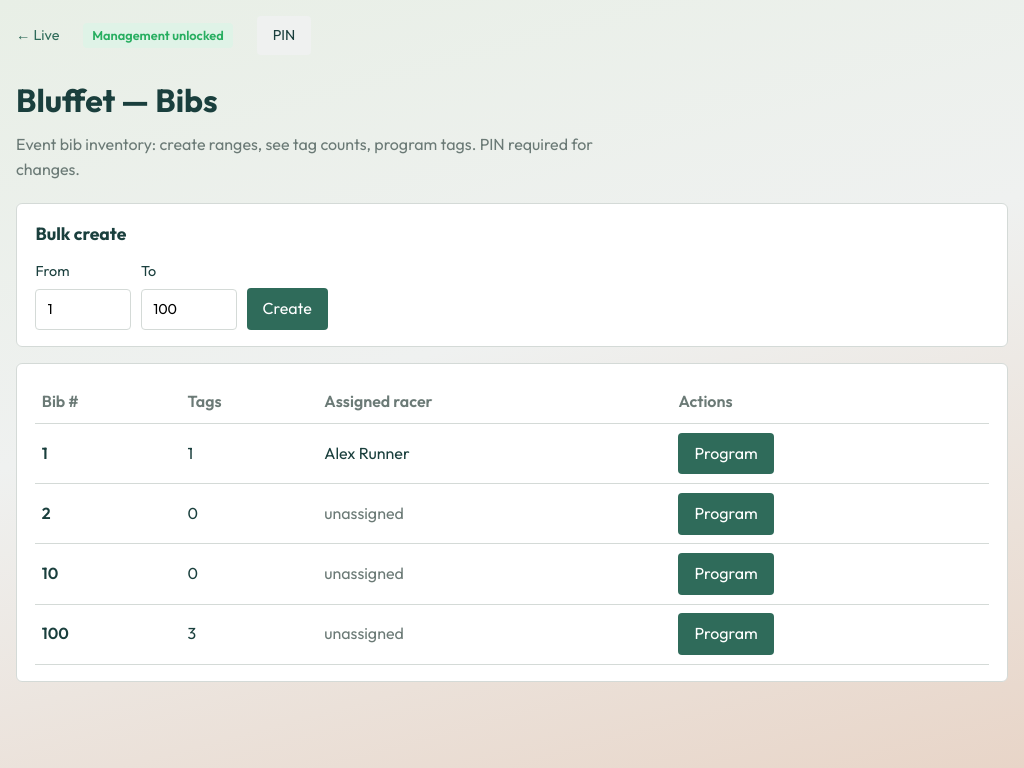
EventBibs.vue › shows write fail message when programming fails
Click the 2nd button with test id "bib-program-tag" at (726, 514), box [678,493,774,535]
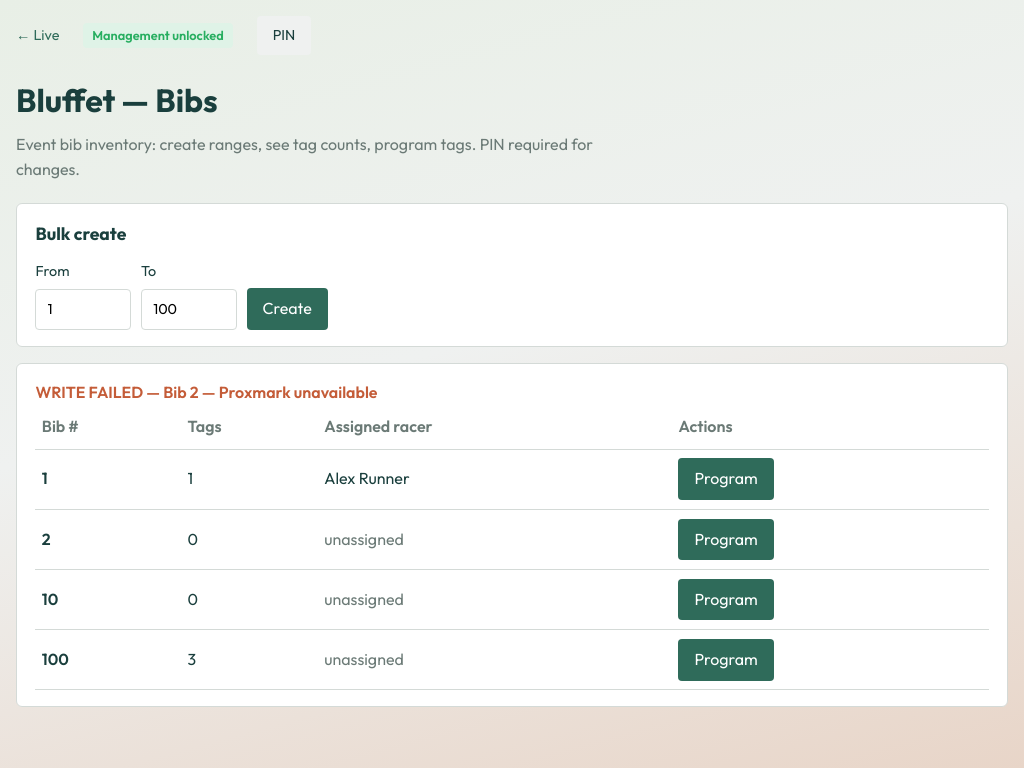
Check: the message with test id "bib-program-error" shows "WRITE FAILED — Bib 2", box [35,382,378,402]
Check: the message with test id "bib-program-error" shows "Proxmark unavailable", box [35,382,378,402]
